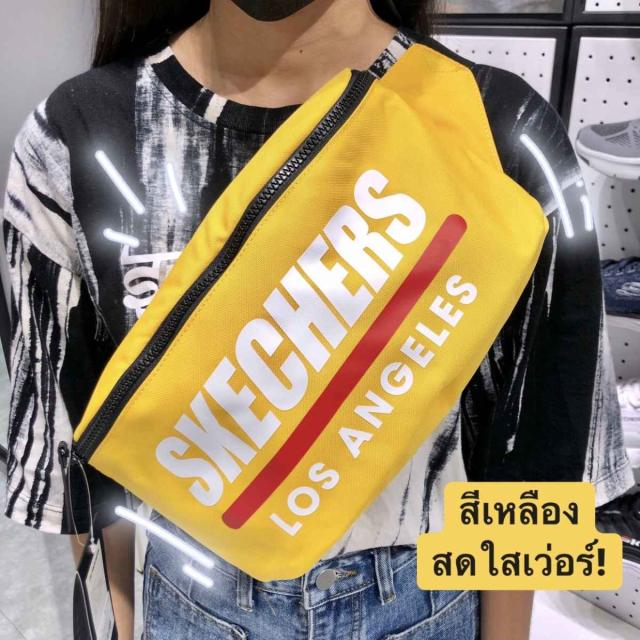Handbag: (76, 28, 550, 584)
